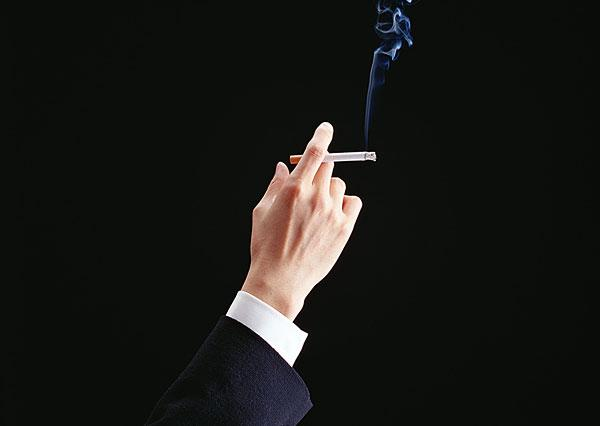smoke: (289, 151, 377, 165)
